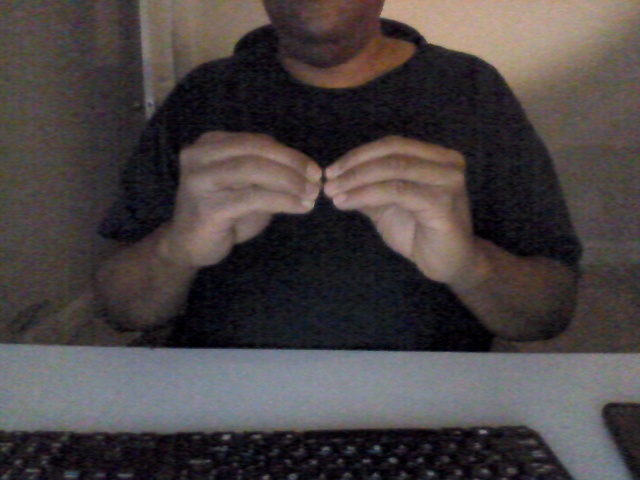more: (171, 128, 476, 282)
